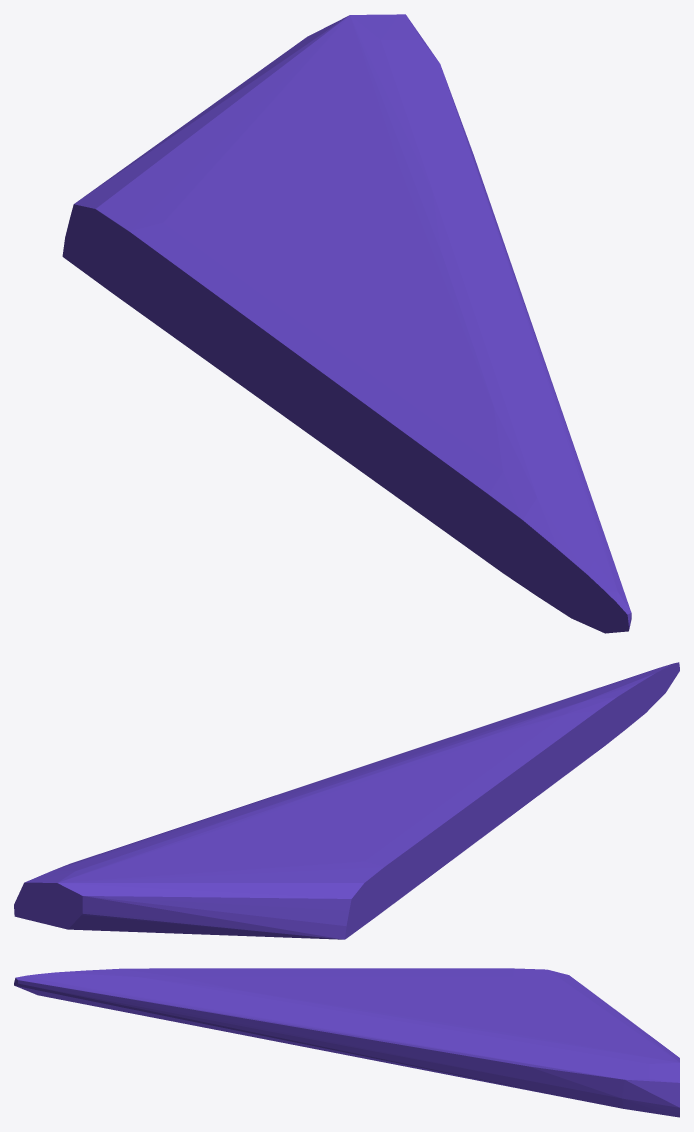
File: left-shoulder-pitch-0_part_83.obj
The picture shows the model from 3 angles, top to bottom: view 1: azimuth 30°, elevation 25°; view 2: azimuth 150°, elevation 25°; view 3: azimuth 270°, elevation 25°; orthographic projection. The views are drawn at different scales.
Size of the model in its own units: 0.0134 by 0.00208 by 0.0336.
